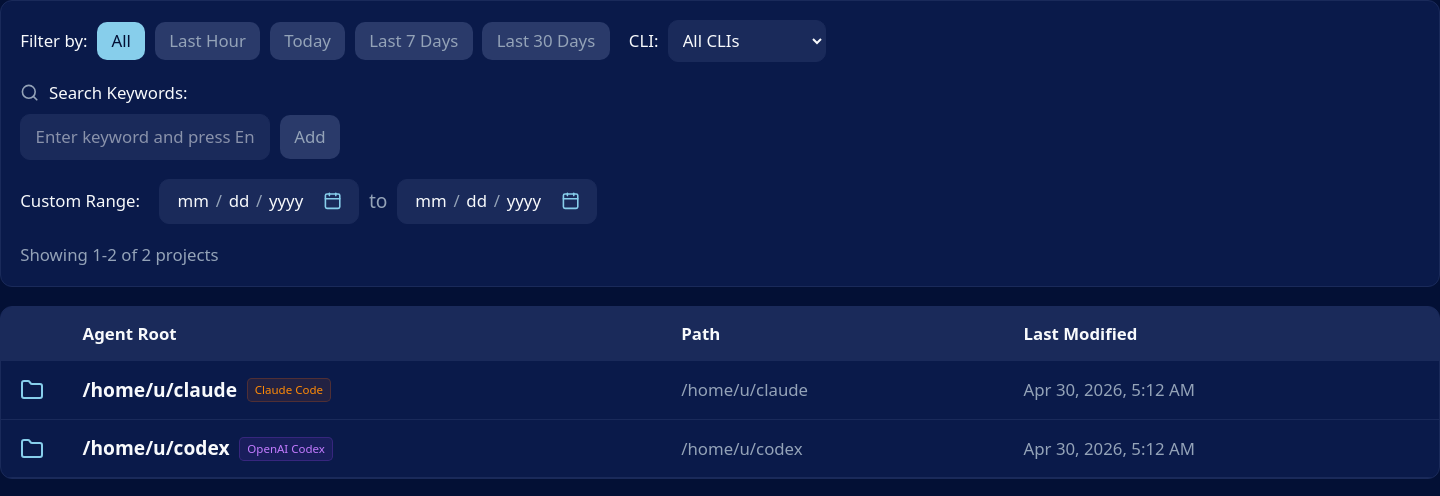
Test: ProjectList › CLI filter set to 'All CLIs' (empty value) shows all rows
The image size is (1440, 496).
Select "Claude Code" in the dropdown named "Filter by CLI": (747, 41) [668,20,826,62]
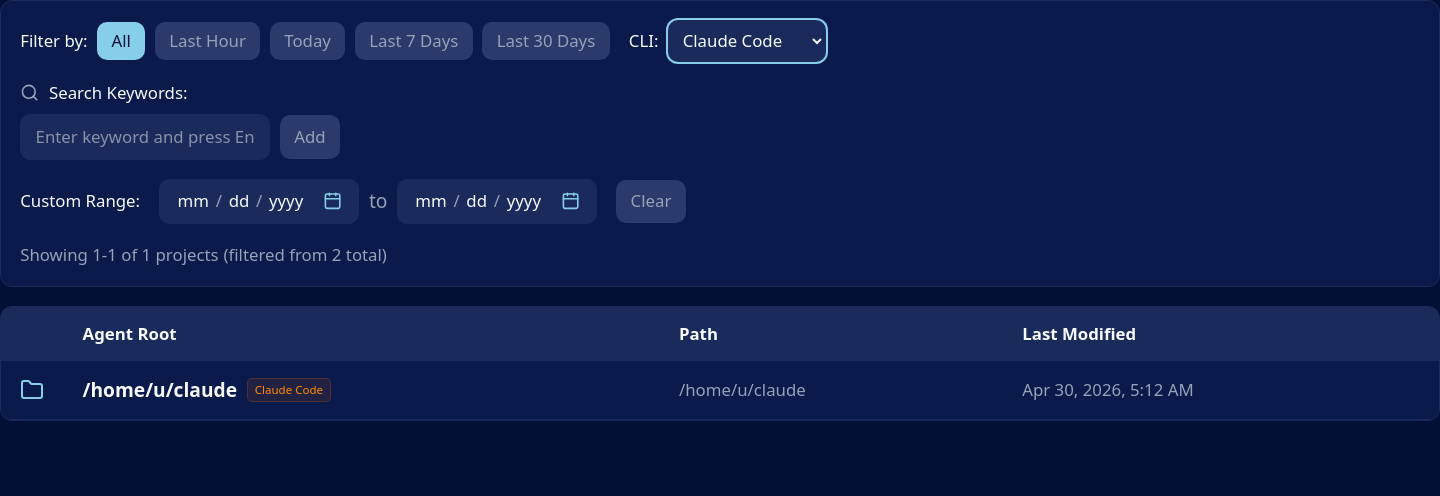
expect the text "Showing 1-1 of 1 projects(filtered from 2 total)" is shown: met, box [20,243,387,266]
Select "All CLIs" in the dropdown named "Filter by CLI": (747, 41) [668,20,826,62]
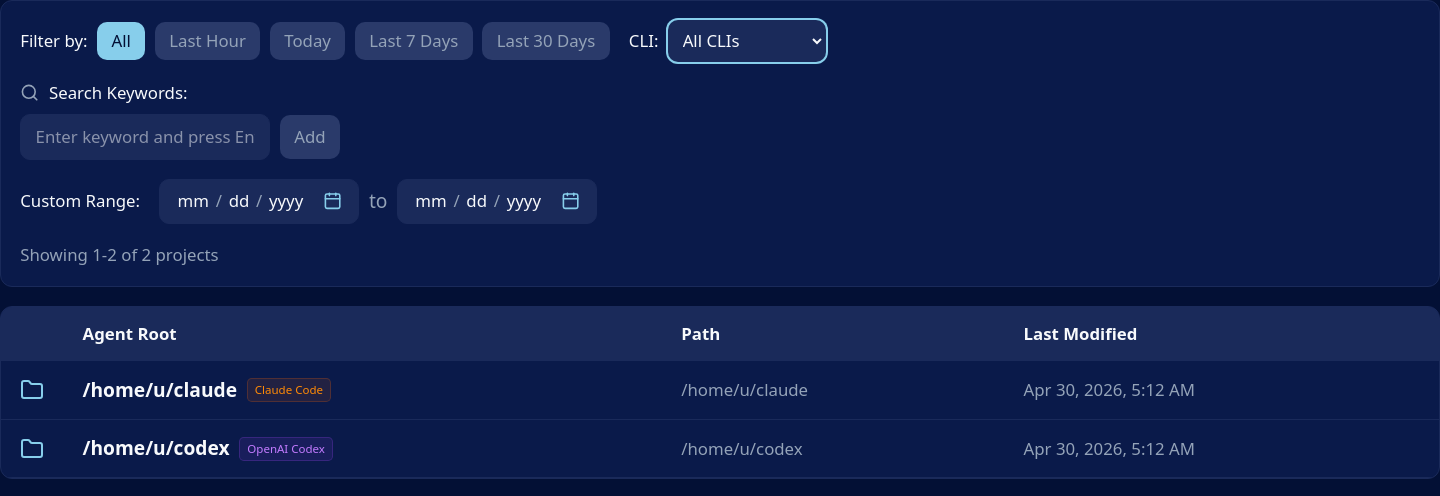
expect the text "Showing 1-2 of 2 projects" is shown: met, box [20,243,219,266]
